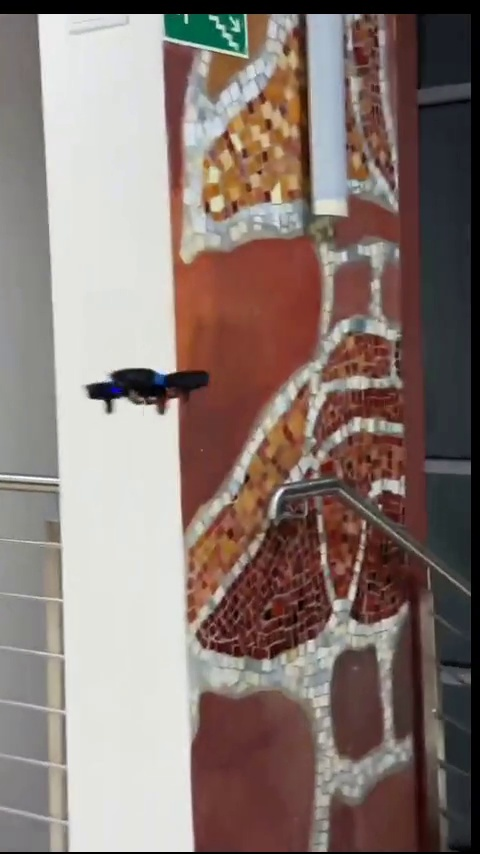drone: (86, 367, 212, 414)
